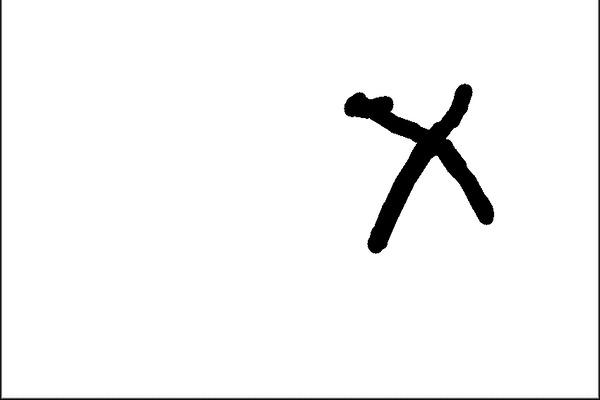X: (326, 75, 509, 254)
